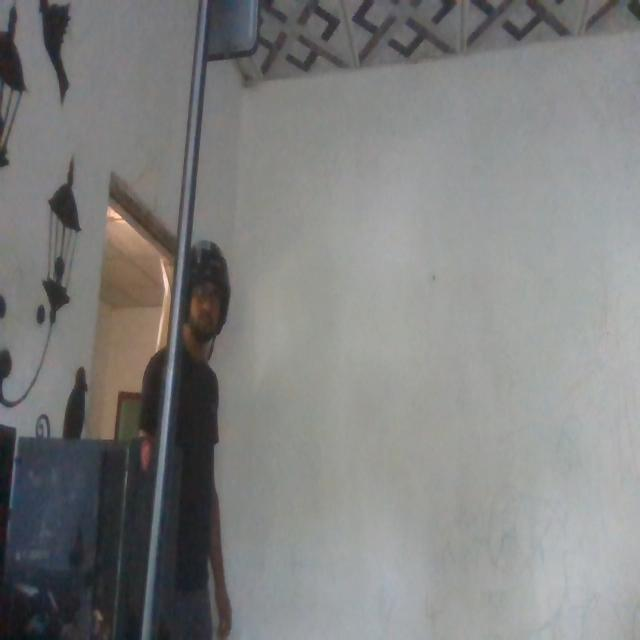Helmet_Wearer: (172, 241, 230, 354)
Person: (138, 231, 258, 640)
